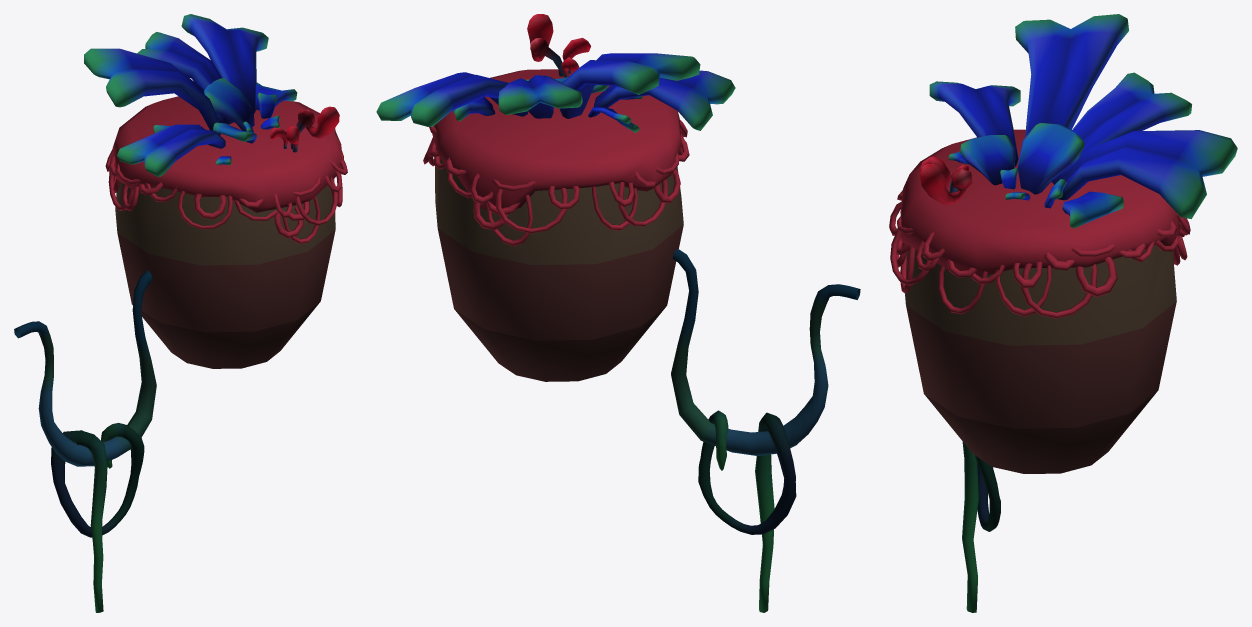
Rendered from Alien_Island13.fbx.
3 views of the same model, side by side, from view 1: azimuth 30°, elevation 25°; view 2: azimuth 150°, elevation 25°; view 3: azimuth 270°, elevation 25° (orthographic). The views are drawn at different scales.
Visible parts, largest first — view 1: Alien_Island13; view 2: Alien_Island13; view 3: Alien_Island13.
Boxes of the visible parts, box(x1,y1,x2,y2) form: Alien_Island13: box(14, 14, 347, 612); Alien_Island13: box(376, 14, 860, 612); Alien_Island13: box(889, 14, 1237, 612).
Size of the model in its own units: 11034 by 15491 by 7783.
